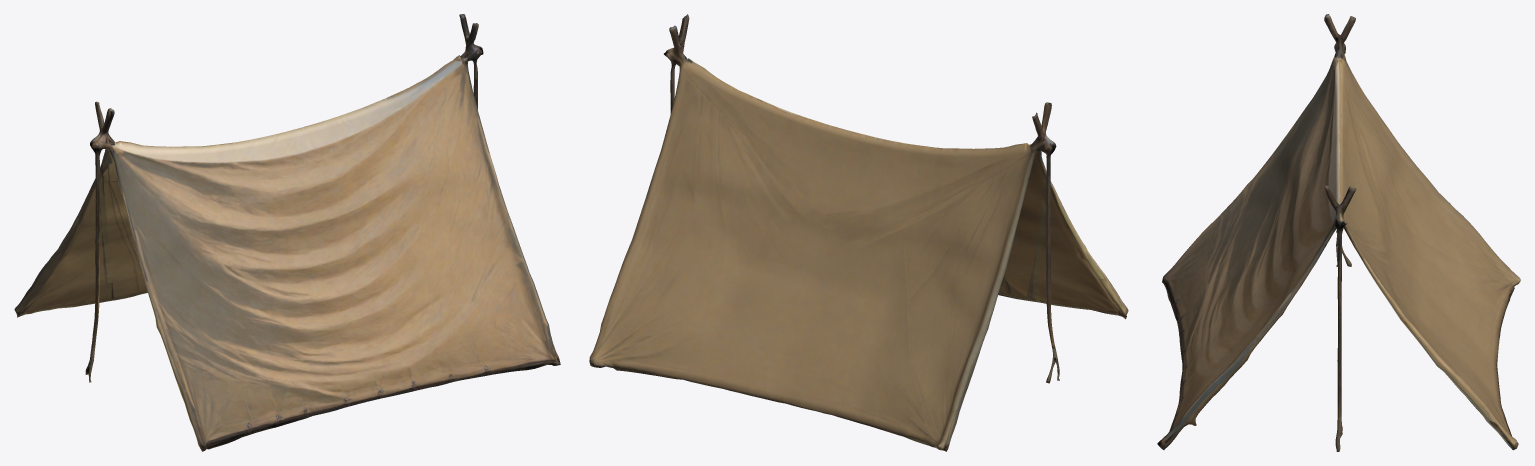
Rendered from AIcanvasTent.glb.
The picture shows the model from 3 angles, left to right: view 1: azimuth 30°, elevation 25°; view 2: azimuth 150°, elevation 25°; view 3: azimuth 270°, elevation 25°; orthographic projection. The views are drawn at different scales.
Size of the model in its own units: 2 by 1.36 by 1.67.
1 material, 1 textured.
